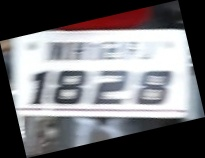character: (92, 69, 129, 105), (136, 69, 172, 104), (54, 69, 84, 105), (30, 69, 47, 104)
